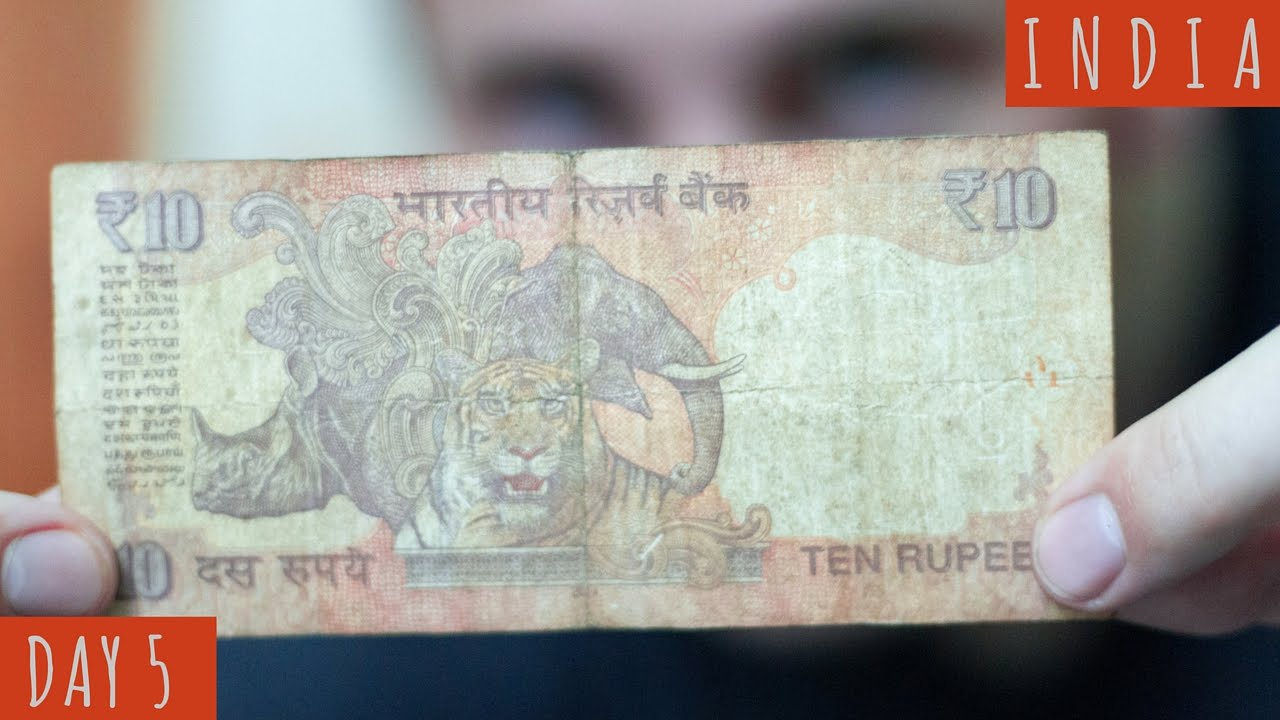ten_rupees_note: (43, 129, 1124, 637)
